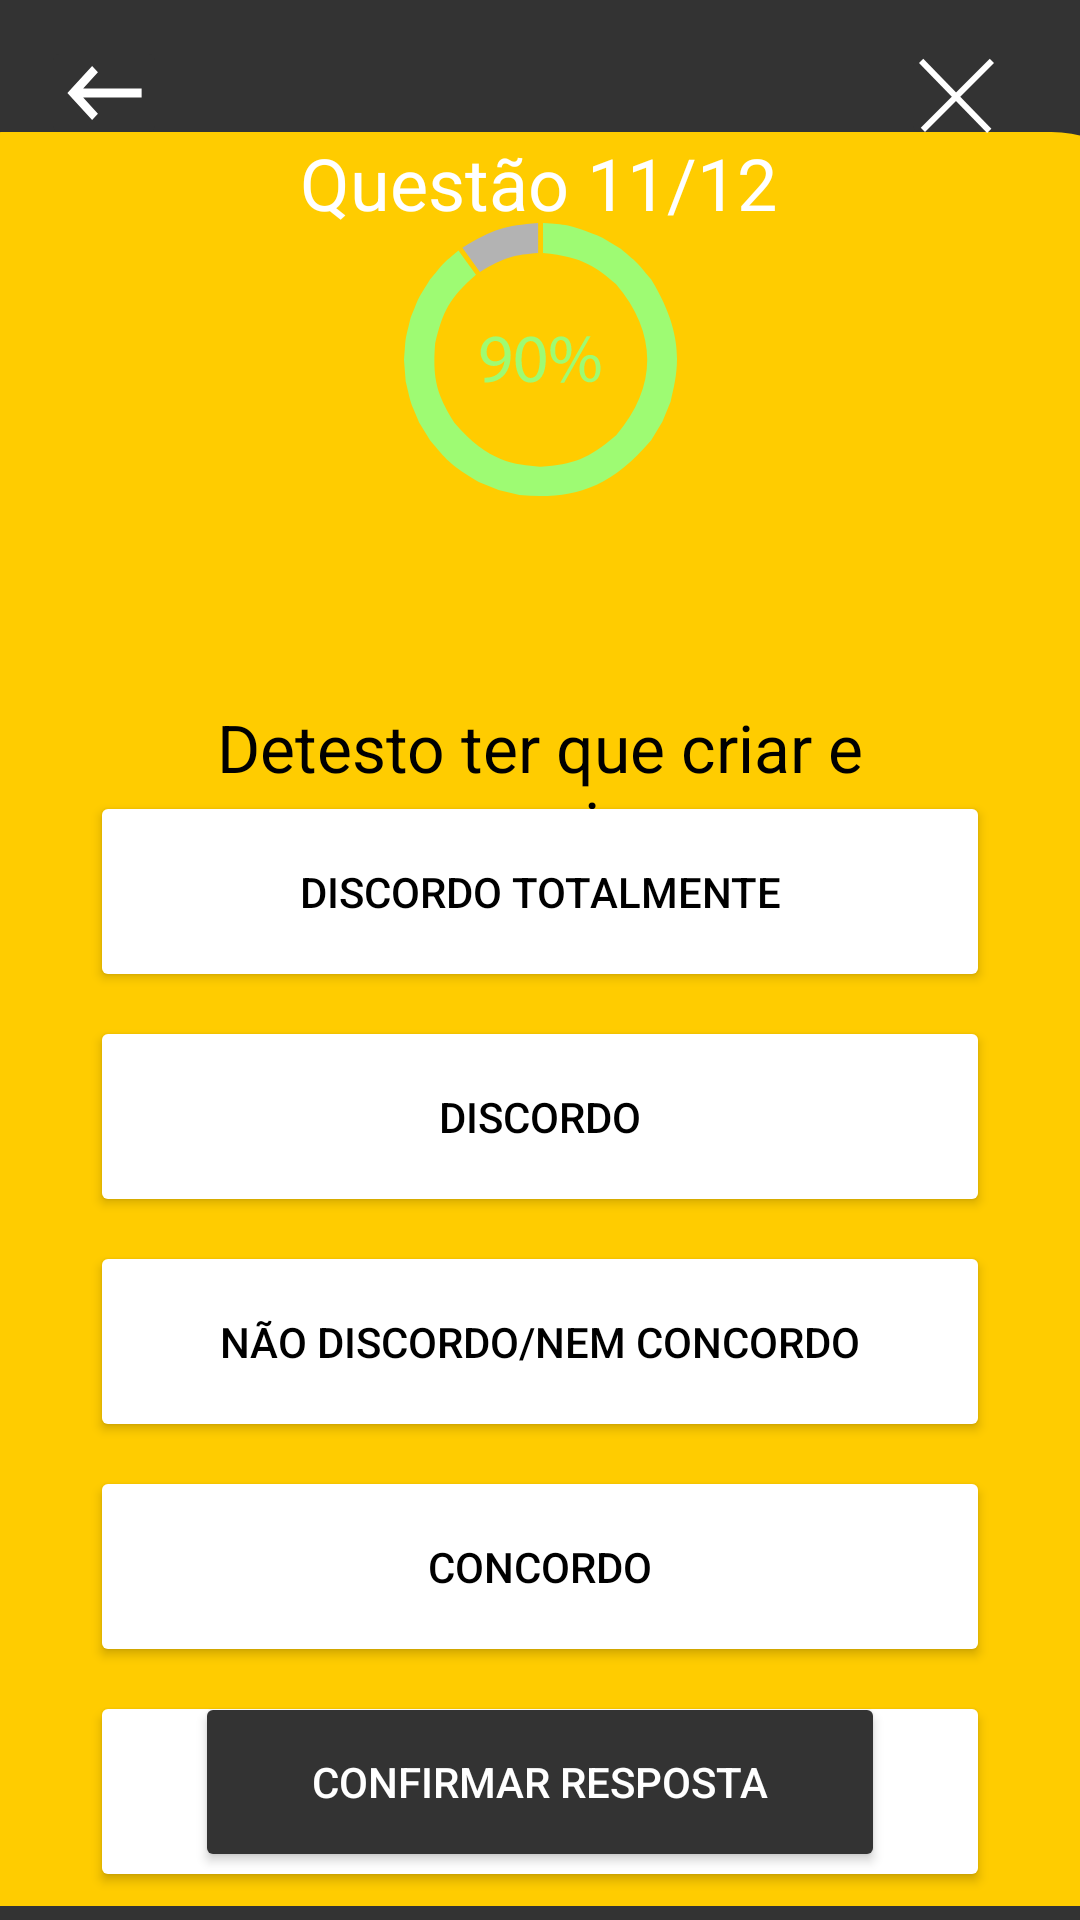

Where to tap for icons on this 1080x1920 app screen, as [x,y]:
arrowback: [104,108]
exit: [956,104]
porcentagem: [540,359]
